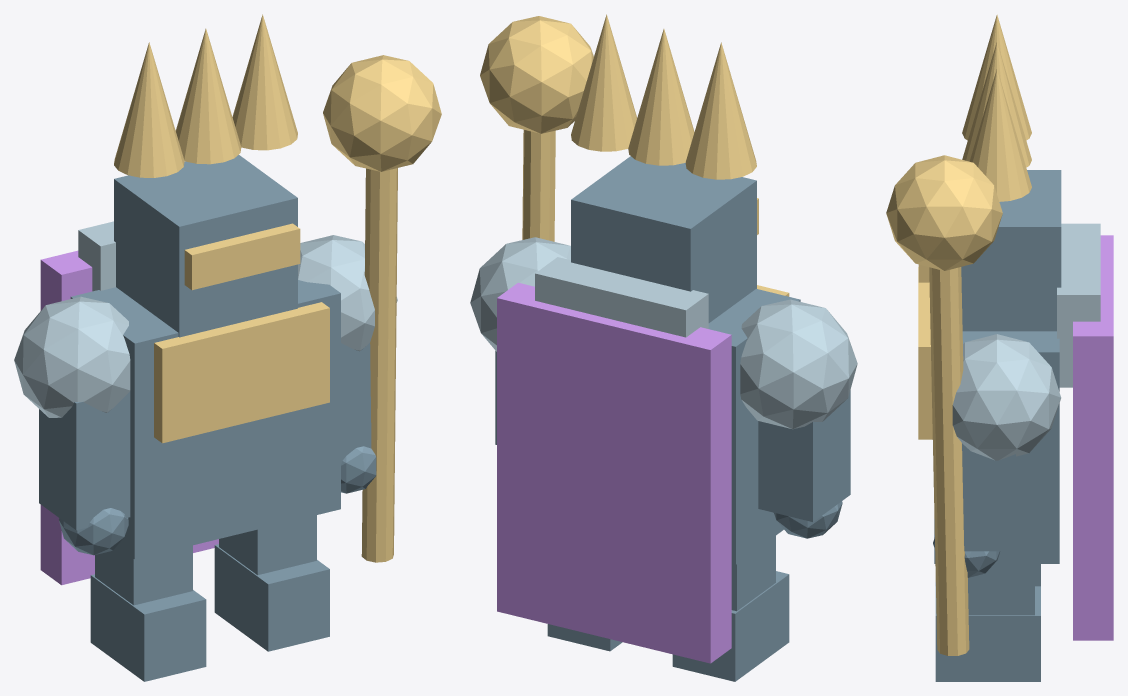
File: orbital_commander.glb
3 views of the same model, side by side, from view 1: azimuth 30°, elevation 25°; view 2: azimuth 150°, elevation 25°; view 3: azimuth 270°, elevation 25° (orthographic). The views are drawn at different scales.
Visible parts, largest first — view 1: torso_4, helmet_6, chestplate_5, hero_staff_19, shoulder_joint_8, orb_emitter_20, arm_armor_9, boots_0, boots_2, crown_fin_16, crown_fin_18, crown_fin_17 (+9 smaller); view 2: leader_cape_15, helmet_6, shoulder_joint_8, orb_emitter_20, arm_armor_9, power_backpack_14, torso_4, crown_fin_16, crown_fin_17, crown_fin_18, boots_0, shoulder_joint_11 (+4 smaller); view 3: leader_cape_15, helmet_6, hero_staff_19, shoulder_joint_11, orb_emitter_20, torso_4, boots_2, arm_armor_12, power_backpack_14, crown_fin_18, leg_armor_3, chestplate_5 (+3 smaller).
Part boxes in pixels (x1,y1,x2,y2): torso_4: (70,280,340,559); helmet_6: (114,155,297,337); chestplate_5: (154,302,329,443); hero_staff_19: (361,168,397,562); shoulder_joint_8: (14,296,130,417); orb_emitter_20: (323,55,441,171); arm_armor_9: (39,391,130,530); boots_0: (90,574,206,681); boots_2: (214,544,329,651); crown_fin_16: (114,42,184,177); crown_fin_18: (232,14,297,150); crown_fin_17: (175,28,241,164); leader_cape_15: (497,282,731,663); helmet_6: (571,156,756,322); shoulder_joint_8: (740,299,857,429); orb_emitter_20: (480,16,593,133); arm_armor_9: (758,390,850,521); power_backpack_14: (535,257,708,337); torso_4: (708,289,800,564); crown_fin_16: (685,42,756,179); crown_fin_17: (628,29,694,165); crown_fin_18: (571,14,636,151); boots_0: (672,571,789,681); shoulder_joint_11: (470,237,570,351); leader_cape_15: (1073,235,1113,640); helmet_6: (961,170,1061,331); hero_staff_19: (929,267,969,655); shoulder_joint_11: (952,334,1061,460); orb_emitter_20: (886,155,1002,270); torso_4: (934,331,1059,563); boots_2: (935,586,1040,681); arm_armor_12: (962,443,1015,551); power_backpack_14: (1057,223,1100,387); crown_fin_18: (969,69,1031,201); leg_armor_3: (968,564,1034,615); chestplate_5: (918,267,932,439).
Size of the model in its own units: 1.49 by 2.25 by 0.78.
